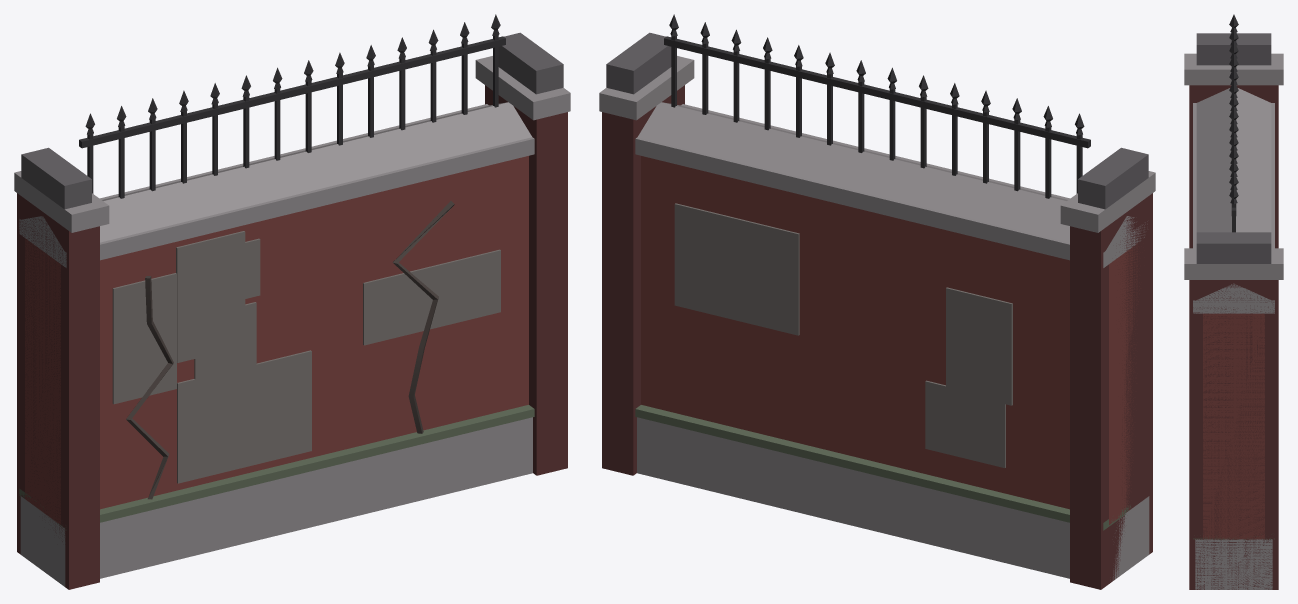
The model's file is wall_segment.glb.
3 views of the same model, side by side, from view 1: azimuth 30°, elevation 25°; view 2: azimuth 150°, elevation 25°; view 3: azimuth 270°, elevation 25° (orthographic). The views are drawn at different scales.
Visible parts, largest first — view 1: WallSegment; view 2: WallSegment; view 3: WallSegment.
Part boxes in pixels (x1=…): WallSegment: x1=14, y1=14, x2=570, y2=589; WallSegment: x1=599, y1=14, x2=1155, y2=589; WallSegment: x1=1184, y1=14, x2=1283, y2=589.
Bounding box in the file's own units: 4 × 3.42 × 0.8.
